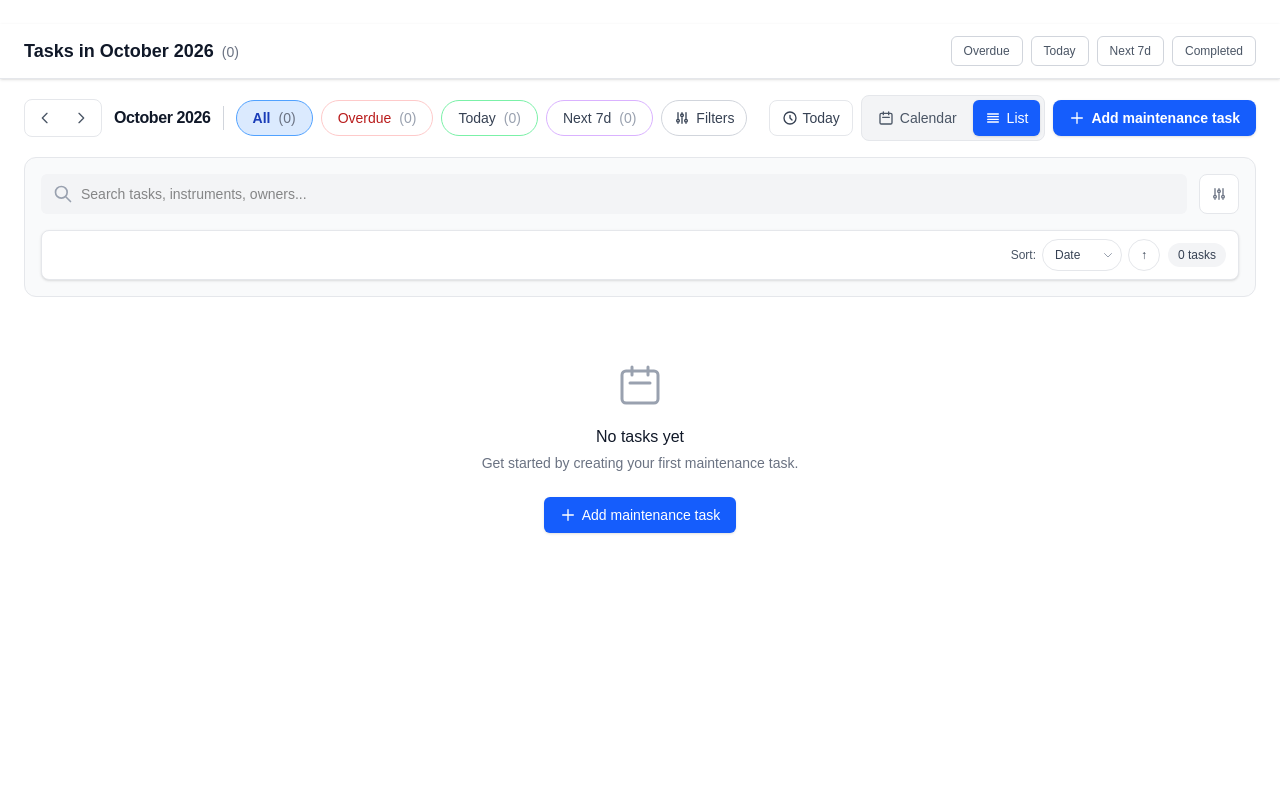
it: CalendarContent › does not claim tasks are globally absent when a search misses within a range that loaded zero tasks
Expected: the heading "No tasks yet" is shown, top-left (596, 428), bottom-right (684, 445)
Type "nonexistent-task-xyz" into the field with placeholder "Search tasks, instruments, owners...". click: [614, 194]
box: top-left (41, 174), bottom-right (1187, 214)
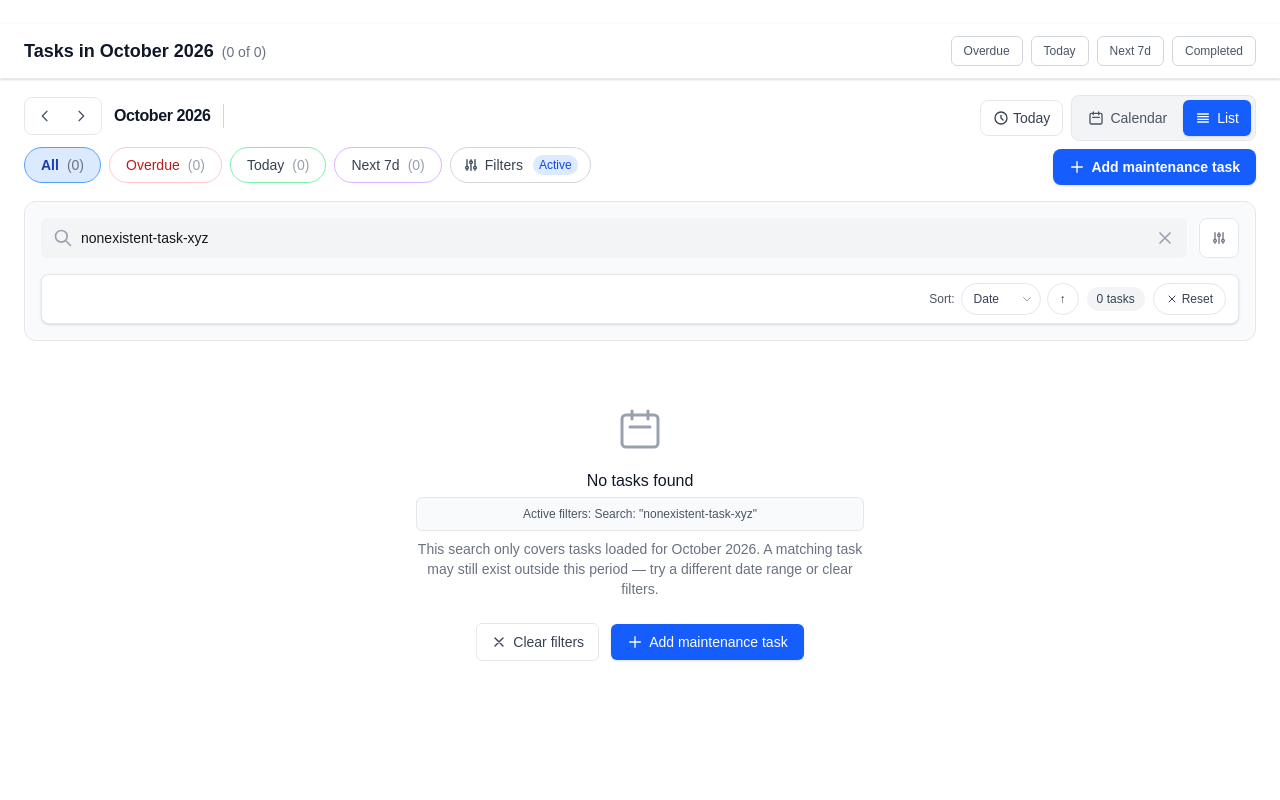
Result: the heading "No tasks yet" is gone
Result: the text "Get started by creating your first maintenance task." is gone
Result: the heading "No tasks found" is shown at top-left (587, 472), bottom-right (693, 489)
